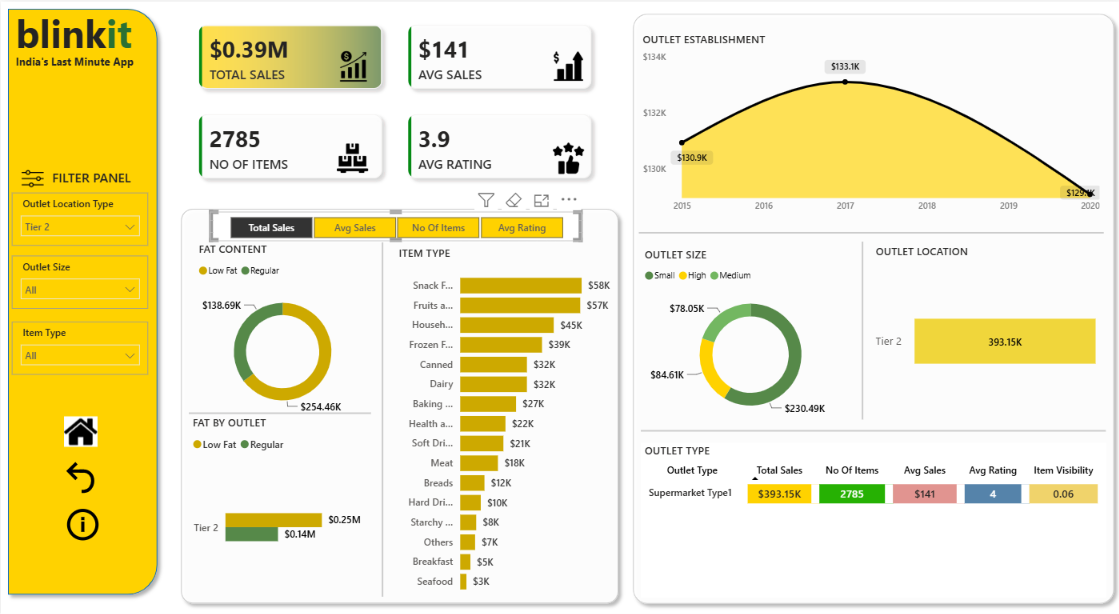

This screenshot's page, from the dashboard's own definition file:
{"tool":"powerbi","page":{"name":"Page 1","canvas":[1400,780],"ordinal":0},"visuals":[{"type":"shape","box":[216.2,250.5,564.7,511.3],"z":0},{"type":"shape","box":[0,0,204.8,750.4],"z":1000},{"type":"textbox","box":[14,61,160.2,29.3],"z":2000},{"type":"textbox","box":[14,1.3,228.9,99.2],"z":3000},{"type":"cardVisual","fields":{"Data":["BlinkIT Grocery Data.Total Sales","BlinkIT Grocery Data.Avg Sales","BlinkIT Grocery Data.No Of Items","BlinkIT Grocery Data.Avg Rating"]},"box":[218.8,0,548.1,251.8],"z":4000},{"type":"image","box":[421,61,39.4,39.4],"z":5000},{"type":"image","box":[690.6,176.8,39.4,39.4],"z":6000},{"type":"image","box":[690.6,61,39.4,39.4],"z":7000},{"type":"image","box":[419.7,176.8,39.4,39.4],"z":8000},{"type":"donutChart","title":"FAT CONTENT","fields":{"Y":["BlinkIT Grocery Data.Total Sales"],"Category":["BlinkIT Grocery Data.Item Fat Content"]},"box":[242.9,300.1,220,230.2],"z":9000},{"type":"slicer","fields":{"Values":["Metrics.Metrics"]},"box":[260.7,262,465.5,38.2],"z":10000},{"type":"clusteredBarChart","title":"FAT BY OUTLET","fields":{"Y":["BlinkIT Grocery Data.Total Sales"],"Category":["BlinkIT Grocery Data.Outlet Location Type"],"Series":["BlinkIT Grocery Data.Item Fat Content"]},"box":[235.3,516.4,220,230.2],"z":11000},{"type":"shape","box":[235.3,506.2,227.7,16.5],"z":12000},{"type":"shape","box":[462.9,300.1,29.3,443.9],"z":13000},{"type":"barChart","title":"ITEM TYPE","fields":{"Y":["BlinkIT Grocery Data.Total Sales"],"Category":["BlinkIT Grocery Data.Item Type"]},"box":[492.2,305.2,274.7,445.1],"z":14000},{"type":"shape","box":[780.9,6.4,619.4,755.5],"z":15000},{"type":"lineChart","title":"OUTLET ESTABLISHMENT","fields":{"Category":["BlinkIT Grocery Data.Outlet Establishment Year"],"Y":["BlinkIT Grocery Data.Total Sales"]},"box":[797.4,36.9,581.2,235.3],"z":16000},{"type":"shape","box":[797.4,274.7,581.2,28],"z":17000},{"type":"donutChart","title":"OUTLET SIZE","fields":{"Y":["BlinkIT Grocery Data.Total Sales"],"Category":["BlinkIT Grocery Data.Outlet Size"]},"box":[800,306.5,274.7,225.1],"z":18000},{"type":"shape","box":[1062,300.1,29.3,222.6],"z":19000},{"type":"funnel","title":"OUTLET LOCATION","fields":{"Y":["Sum(BlinkIT Grocery Data.Sales)"],"Category":["BlinkIT Grocery Data.Outlet Location Type"]},"box":[1088.7,302.7,290,225.1],"z":20000},{"type":"shape","box":[800,522.7,581.2,28],"z":21000},{"type":"pivotTable","title":"OUTLET TYPE","fields":{"Rows":["BlinkIT Grocery Data.Outlet Type"],"Values":["BlinkIT Grocery Data.Total Sales","BlinkIT Grocery Data.No Of Items","BlinkIT Grocery Data.Avg Sales","BlinkIT Grocery Data.Avg Rating","Avg(BlinkIT Grocery Data.Item Visibility)"]},"box":[800,550.7,581.2,193.3],"z":22000},{"type":"slicer","fields":{"Values":["BlinkIT Grocery Data.Outlet Location Type"]},"box":[14,239.1,170.4,66.1],"z":23000},{"type":"slicer","fields":{"Values":["BlinkIT Grocery Data.Outlet Size"]},"box":[14,318,170.4,66.1],"z":24000},{"type":"slicer","fields":{"Values":["BlinkIT Grocery Data.Item Type"]},"box":[14,400.6,170.4,66.1],"z":25000},{"type":"textbox","box":[54,203.8,119.3,36],"z":26000},{"type":"actionButton","box":[77.7,628.2,50,50],"z":27000},{"type":"actionButton","box":[75.4,569.7,49.5,49.5],"z":28000},{"type":"actionButton","box":[75,512.5,50,50],"z":29000},{"type":"image","box":[24.8,202.7,29.3,37.2],"z":30000}]}

Visuals, with their boxes in screenshot pixels (x1, y1, x2, y2), scaled from the page's 1400x780 canvas onto the 1119x614 screenshot:
shape: <bbox>173, 197, 624, 600</bbox>
shape: <bbox>0, 0, 164, 591</bbox>
textbox: <bbox>11, 48, 139, 71</bbox>
textbox: <bbox>11, 1, 194, 79</bbox>
cardVisual - BlinkIT Grocery Data.Total Sales x BlinkIT Grocery Data.Avg Sales: <bbox>175, 0, 613, 198</bbox>
image: <bbox>336, 48, 368, 79</bbox>
image: <bbox>552, 139, 583, 170</bbox>
image: <bbox>552, 48, 583, 79</bbox>
image: <bbox>335, 139, 367, 170</bbox>
"FAT CONTENT" donutChart: <bbox>194, 236, 370, 417</bbox>
slicer - Metrics.Metrics: <bbox>208, 206, 580, 236</bbox>
"FAT BY OUTLET" clusteredBarChart: <bbox>188, 406, 364, 588</bbox>
shape: <bbox>188, 398, 370, 411</bbox>
shape: <bbox>370, 236, 393, 586</bbox>
"ITEM TYPE" barChart: <bbox>393, 240, 613, 591</bbox>
shape: <bbox>624, 5, 1118, 600</bbox>
"OUTLET ESTABLISHMENT" lineChart: <bbox>637, 29, 1102, 214</bbox>
shape: <bbox>637, 216, 1102, 238</bbox>
"OUTLET SIZE" donutChart: <bbox>639, 241, 859, 418</bbox>
shape: <bbox>849, 236, 872, 411</bbox>
"OUTLET LOCATION" funnel: <bbox>870, 238, 1102, 415</bbox>
shape: <bbox>639, 411, 1104, 433</bbox>
"OUTLET TYPE" pivotTable: <bbox>639, 433, 1104, 586</bbox>
slicer - BlinkIT Grocery Data.Outlet Location Type: <bbox>11, 188, 147, 240</bbox>
slicer - BlinkIT Grocery Data.Outlet Size: <bbox>11, 250, 147, 302</bbox>
slicer - BlinkIT Grocery Data.Item Type: <bbox>11, 315, 147, 367</bbox>
textbox: <bbox>43, 160, 139, 189</bbox>
actionButton: <bbox>62, 495, 102, 534</bbox>
actionButton: <bbox>60, 448, 100, 487</bbox>
actionButton: <bbox>60, 403, 100, 443</bbox>
image: <bbox>20, 160, 43, 189</bbox>
